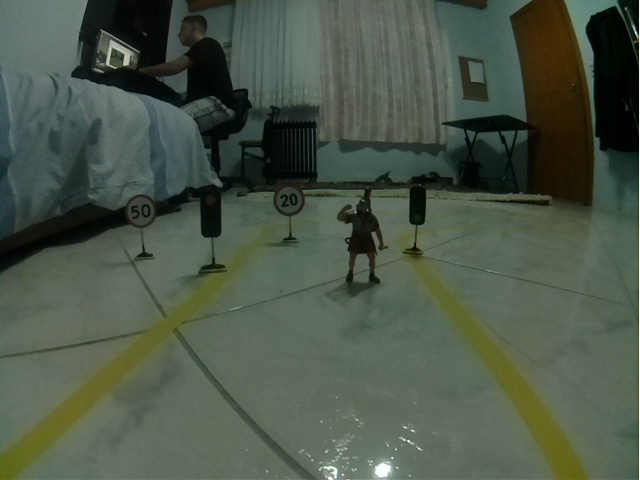Green Traffic Light: (409, 184, 427, 226)
Person: (336, 186, 389, 284)
Red Traffic Light: (200, 188, 222, 238)
Speed Limit 20: (273, 184, 305, 217)
Speed Limit 50: (126, 194, 156, 228)
